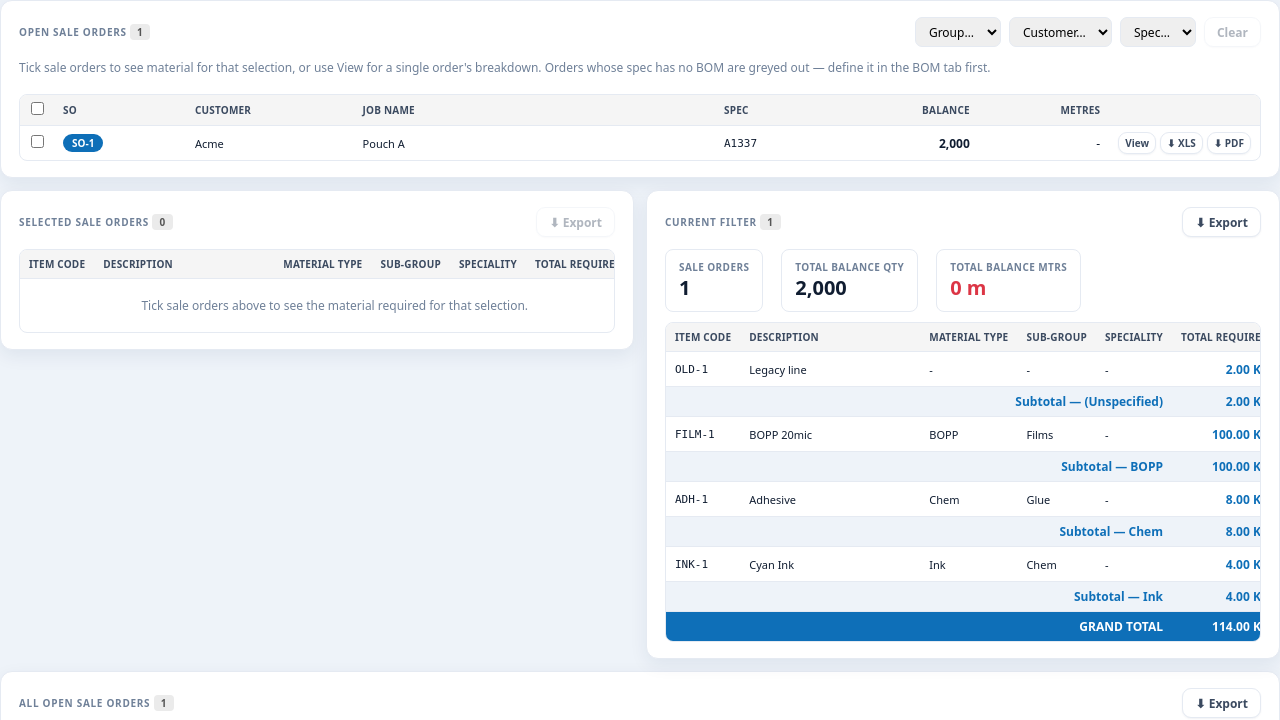
Test: Raw Material — per-sale-order download › breaks the on-screen view down by department too
This screenshot has width=1280, height=720.
Step 1. Click the button with aria-label "View material for SO-1" → point(1137, 143), box [1118,132,1156,154]
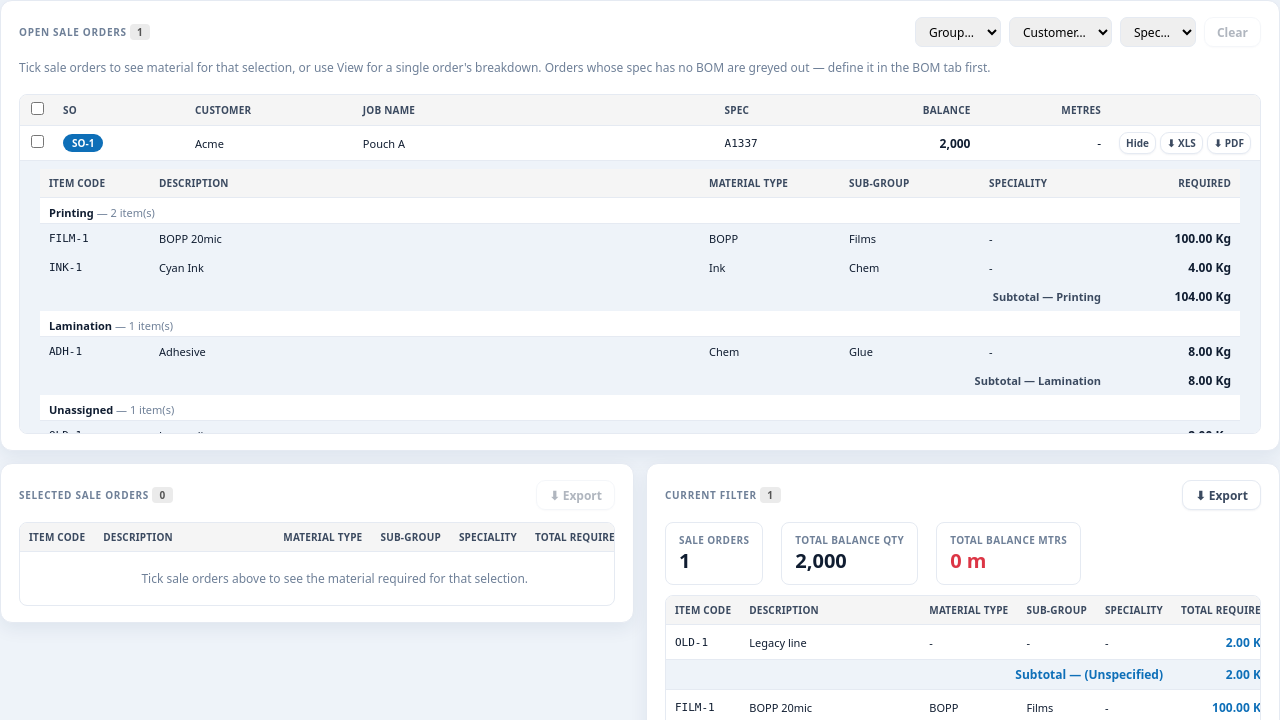
Expected: the column heading "Printing — 2 item(s)" is shown, [40,198,1240,224]
Expected: the column heading "Lamination — 1 item(s)" is shown, [40,311,1240,336]
Expected: the text "FILM-1" below "Acme" is shown, [49,232,89,245]
